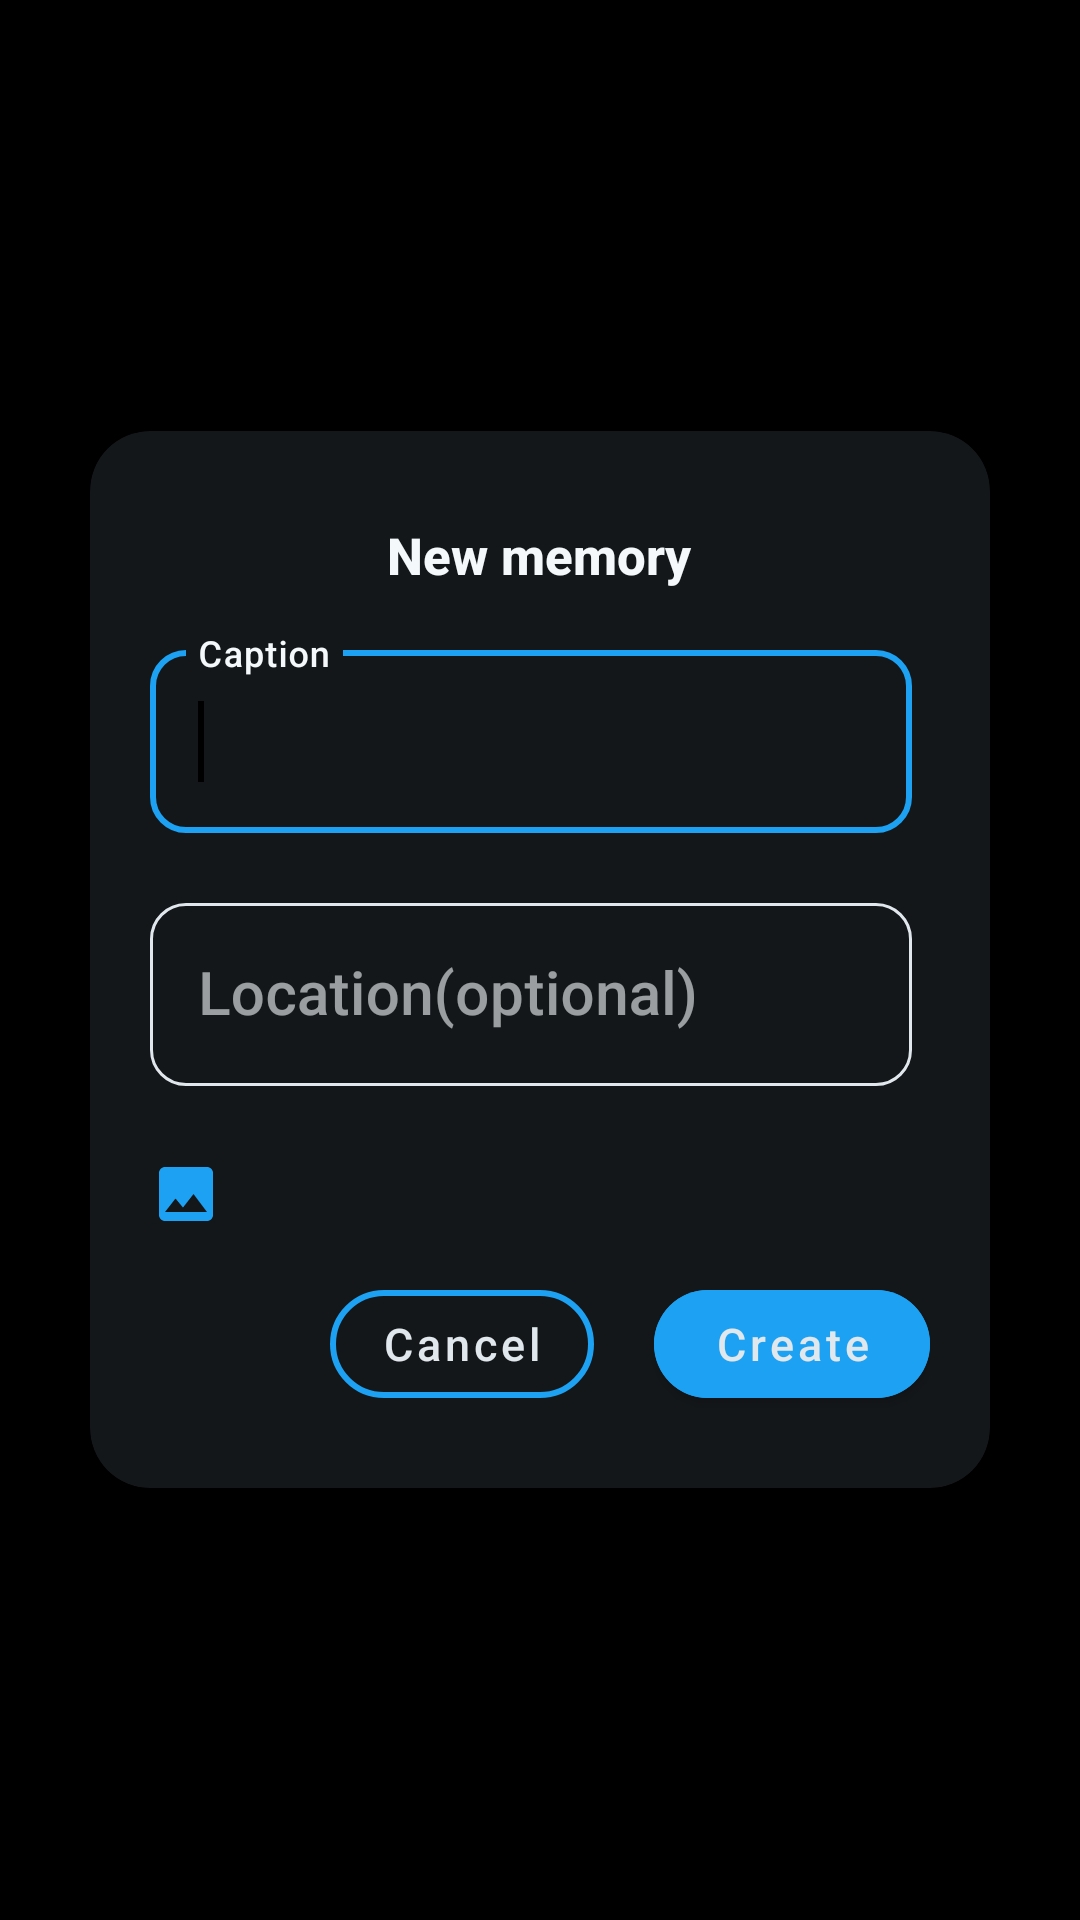

Icon bounding boxes for this 1080 × 1920 phone screenshot, format (x1, y1, x2, y2):
select image: (159, 1167, 213, 1221)
